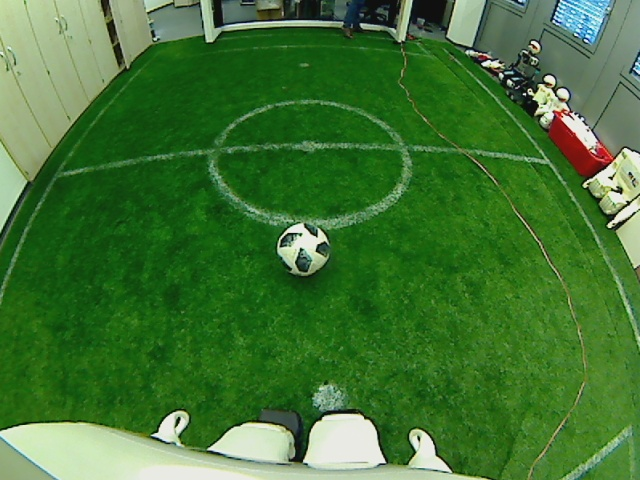ball: (276, 219, 332, 277)
